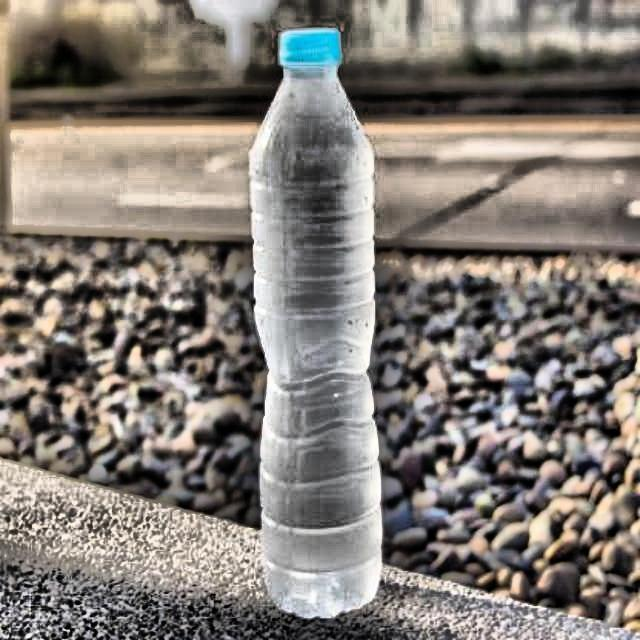Bottles: (231, 14, 409, 626)
